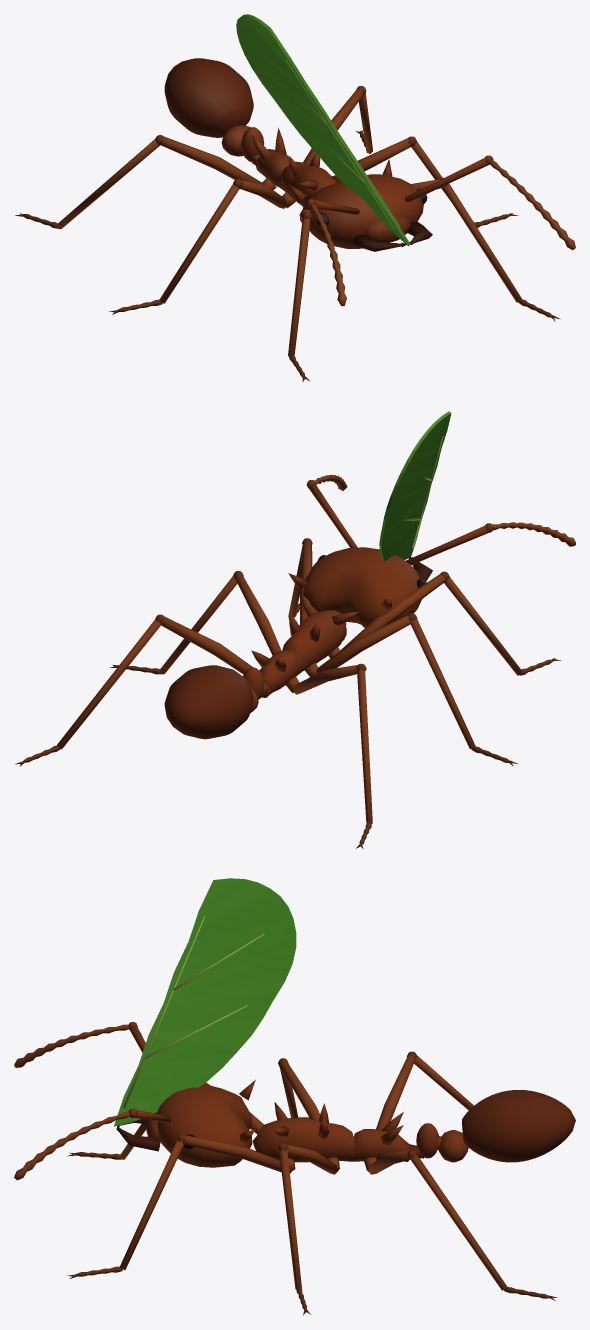
Rendered from LeafcutterAnt.fbx.
3 renders of one model, top to bottom at view 1: azimuth 30°, elevation 25°; view 2: azimuth 150°, elevation 25°; view 3: azimuth 270°, elevation 25°, orthographic.
Parts seen in each view (by area): view 1: LeafcutterAnt; view 2: LeafcutterAnt; view 3: LeafcutterAnt.
Boxes of the visible parts, x1,y1,x2,y2 form: LeafcutterAnt: (15,14,575,381); LeafcutterAnt: (15,411,575,849); LeafcutterAnt: (14,878,575,1315).
Size of the model in its own units: 1.2 by 0.8307 by 1.44.
